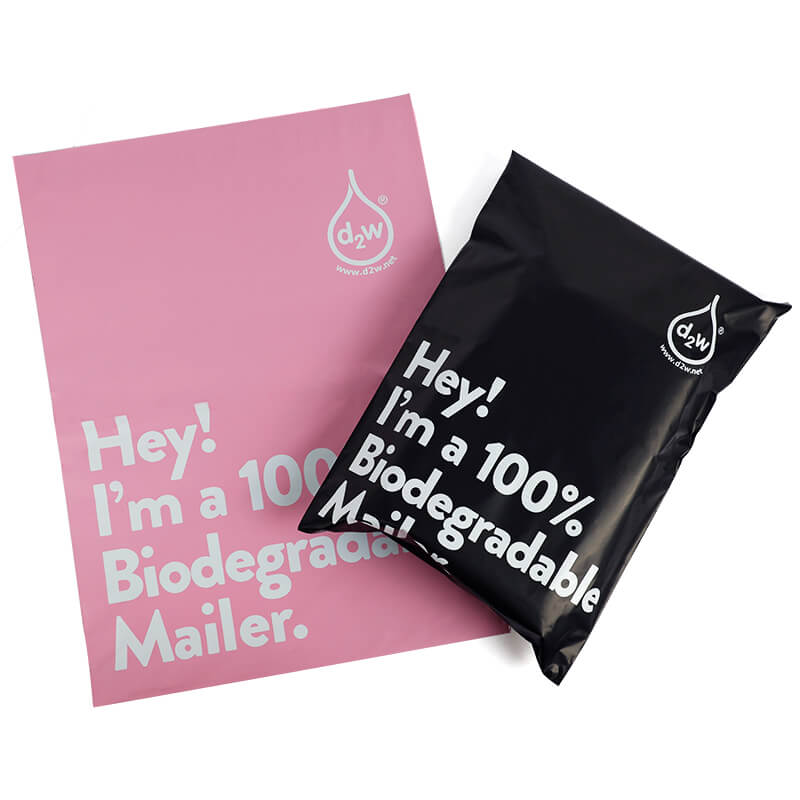塑料袋: (15, 97, 506, 706), (299, 152, 790, 685)
